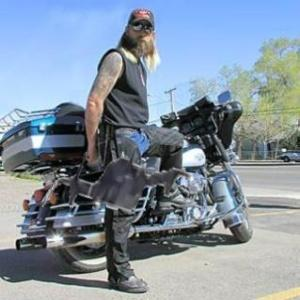drone: (43, 116, 194, 267)
